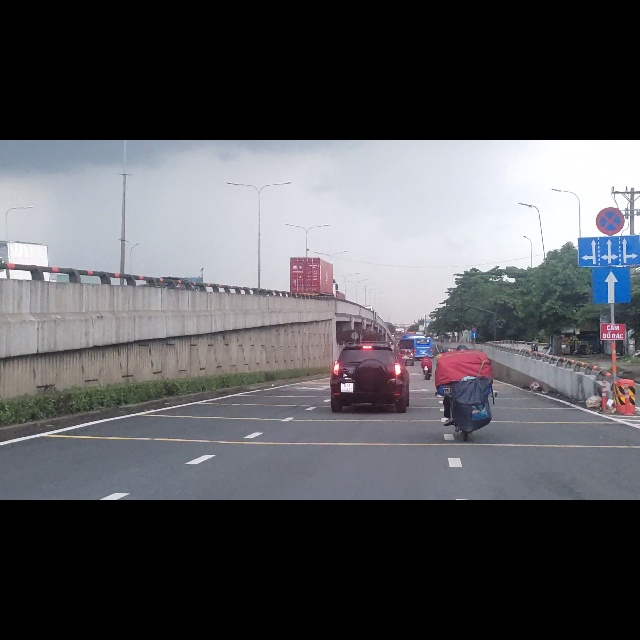bien_chi_dan: (592, 226, 633, 288), (595, 119, 625, 169), (471, 341, 478, 353)
